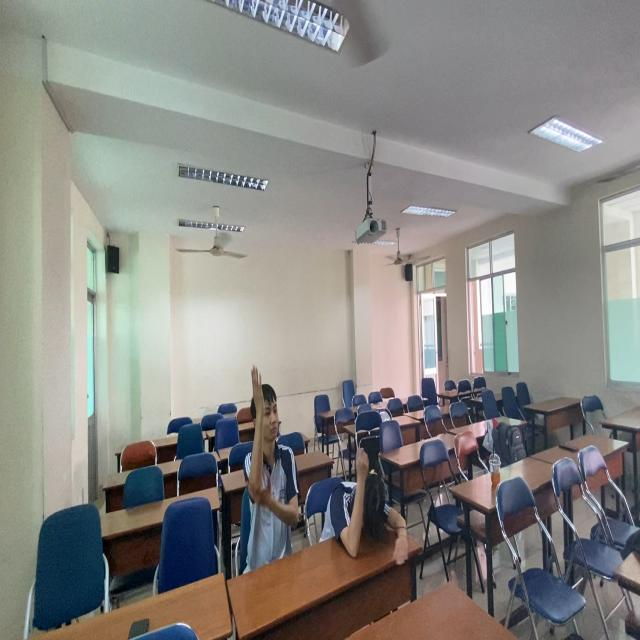raise_hand: (243, 365, 302, 562)
sleep: (319, 440, 404, 573)
